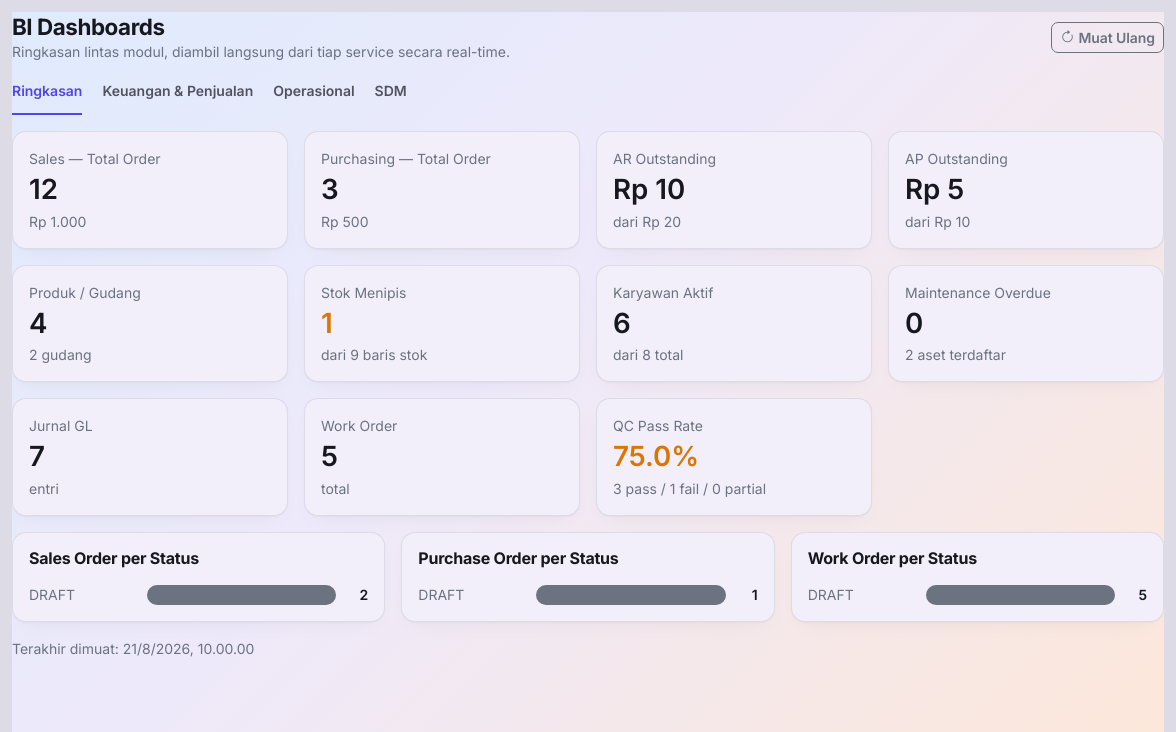
BIDashboardsPage — tab bertema › empat kartu terakhir berada di tab yang benar
This screenshot has width=1176, height=732.
Expected: the text "Sales — Total Order" is shown, top-left (29, 150), bottom-right (161, 167)
Step 1. Click the button "SDM" → (391, 98), box top-left (375, 80), bottom-right (407, 115)
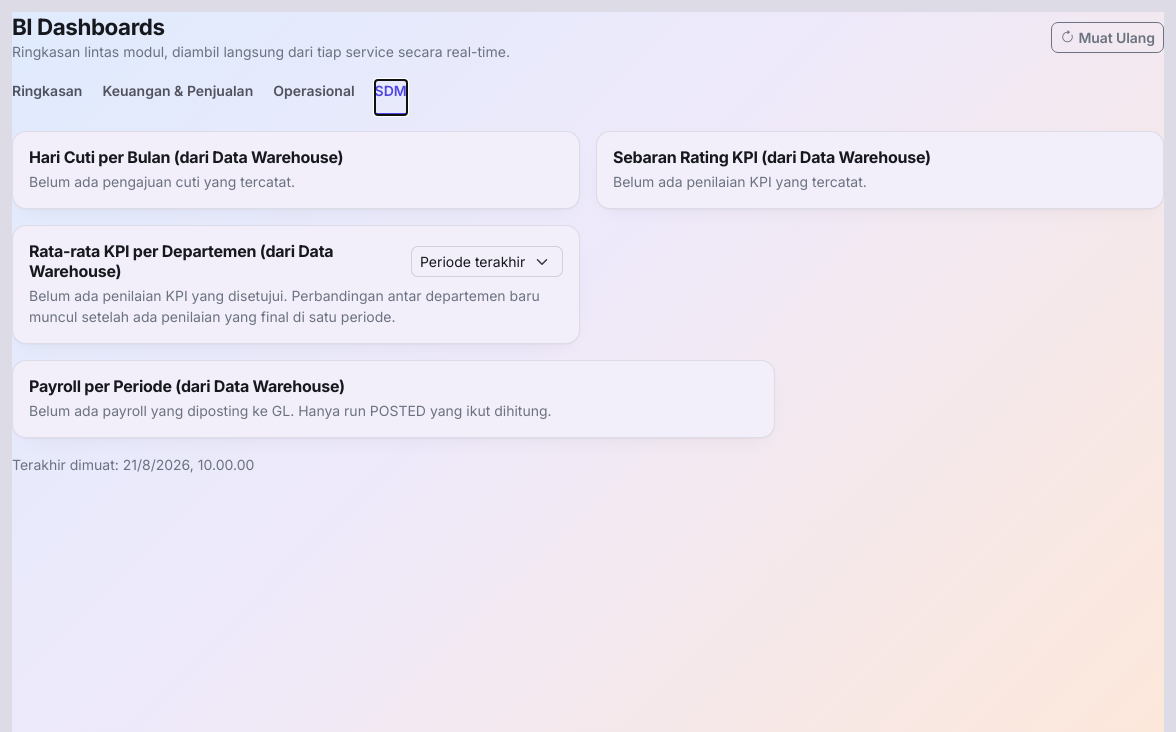
Result: the heading "Payroll per Periode (dari Data Warehouse)" is shown at top-left (29, 376), bottom-right (345, 396)
Step 2. Click the button "Operasional" → (314, 98), box top-left (273, 80), bottom-right (355, 115)
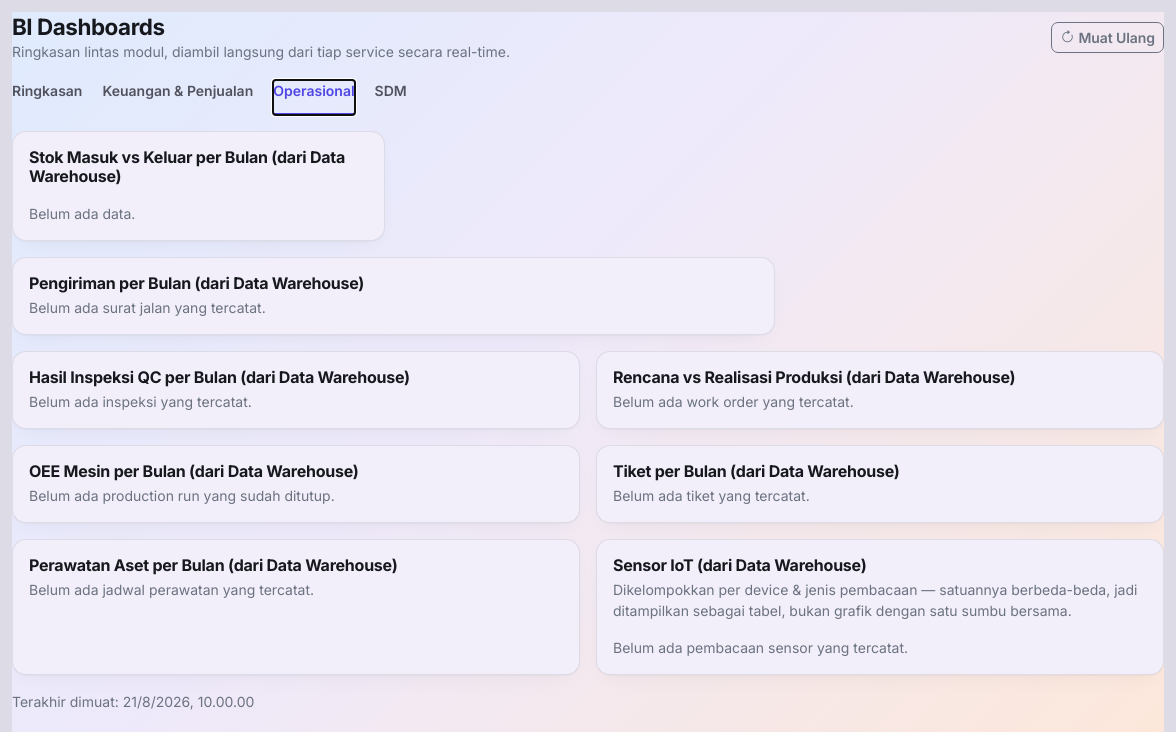
Result: the heading "Perawatan Aset per Bulan (dari Data Warehouse)" is shown at top-left (29, 555), bottom-right (398, 575)
Result: the heading "Sensor IoT (dari Data Warehouse)" is shown at top-left (613, 555), bottom-right (866, 575)
Result: the heading "Payroll per Periode" is gone
Step 3. Click the button "Keuangan & Penjualan" → (178, 98), box top-left (102, 80), bottom-right (253, 115)
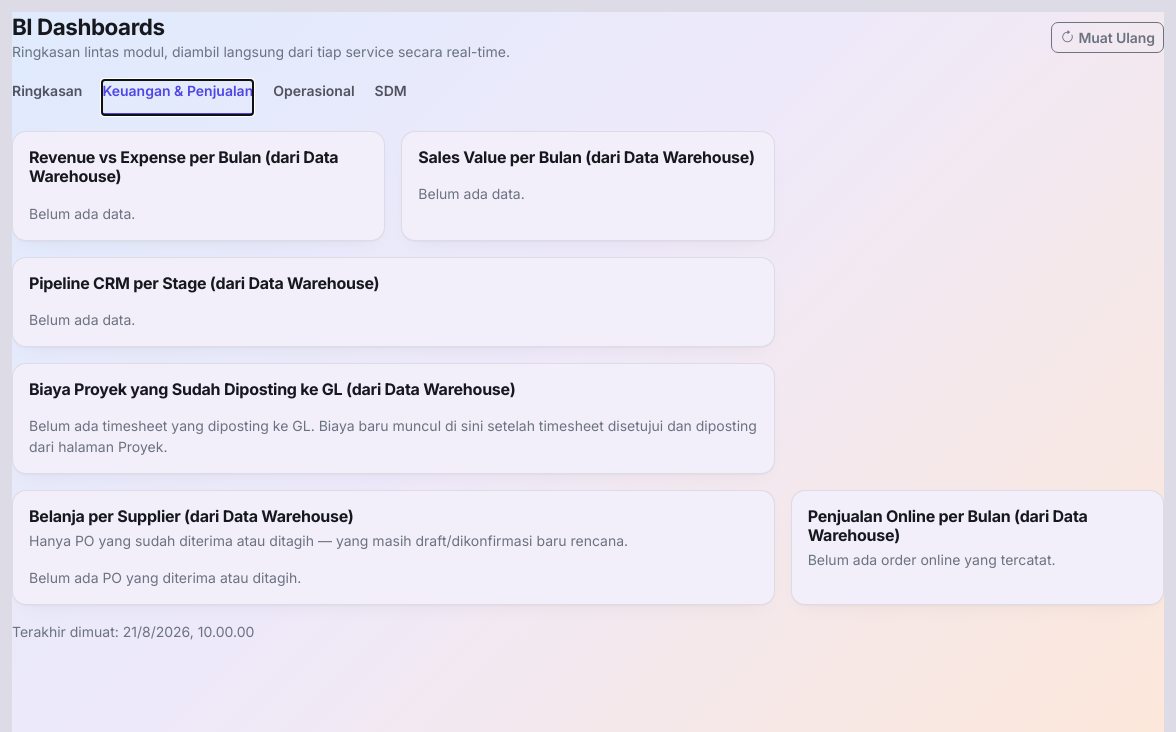
Result: the heading "Penjualan Online per Bulan (dari Data Warehouse)" is shown at top-left (808, 506), bottom-right (1088, 545)
Result: the heading "Sensor IoT" is gone
